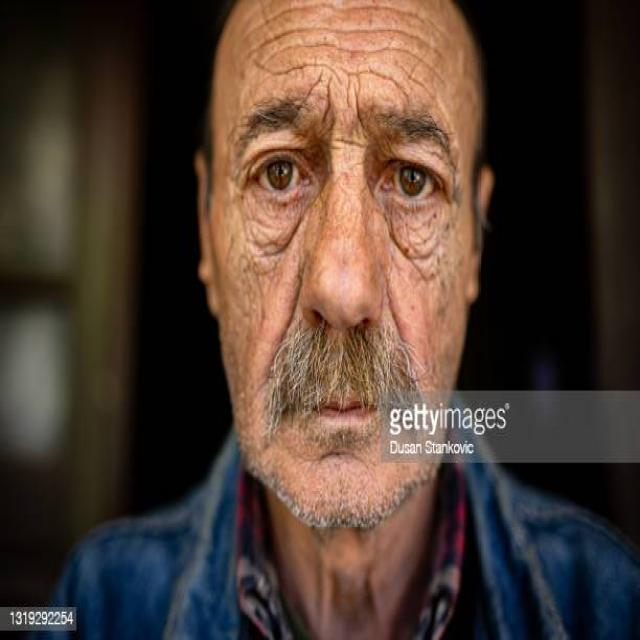Wrinkles: (233, 2, 450, 43), (239, 26, 448, 61), (280, 42, 447, 83), (250, 52, 343, 125), (234, 210, 301, 280), (340, 65, 408, 130), (399, 61, 454, 141), (390, 219, 447, 279)
